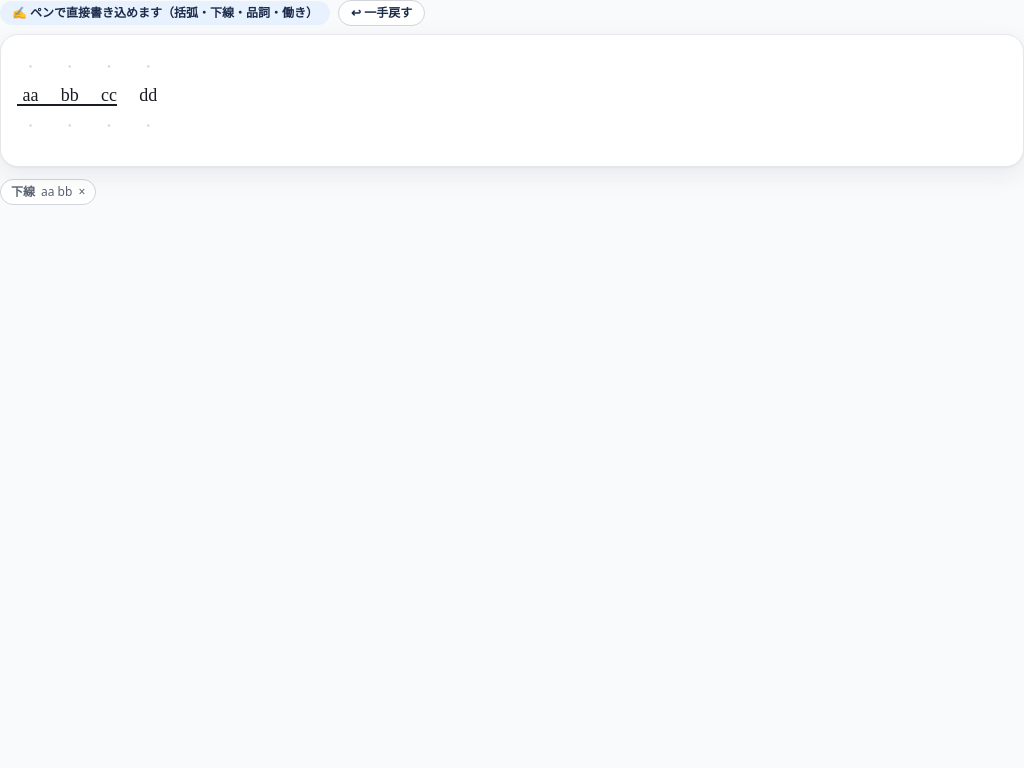
Test case: PenSyntaxAnnotator 下線のタッチ修正（2026-09-02） › 下線をタッチすると修正メニューが開き、波線（熟語）に変更できる
Press the mouse on the drawing at (512, 100), box top-left (1, 35), bottom-right (1023, 166)
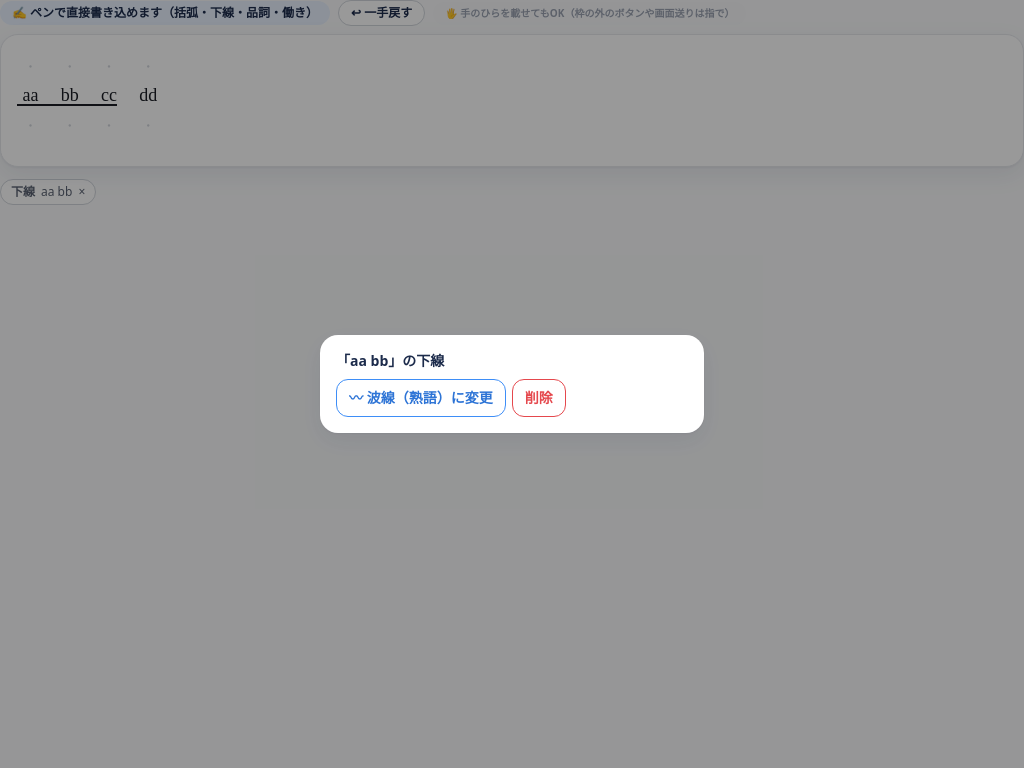
Now the text "「aa bb」の下線" is shown, box top-left (336, 351), bottom-right (444, 370)
Click the button "〰 波線（熟語）に変更" at (421, 398), box top-left (336, 379), bottom-right (506, 417)
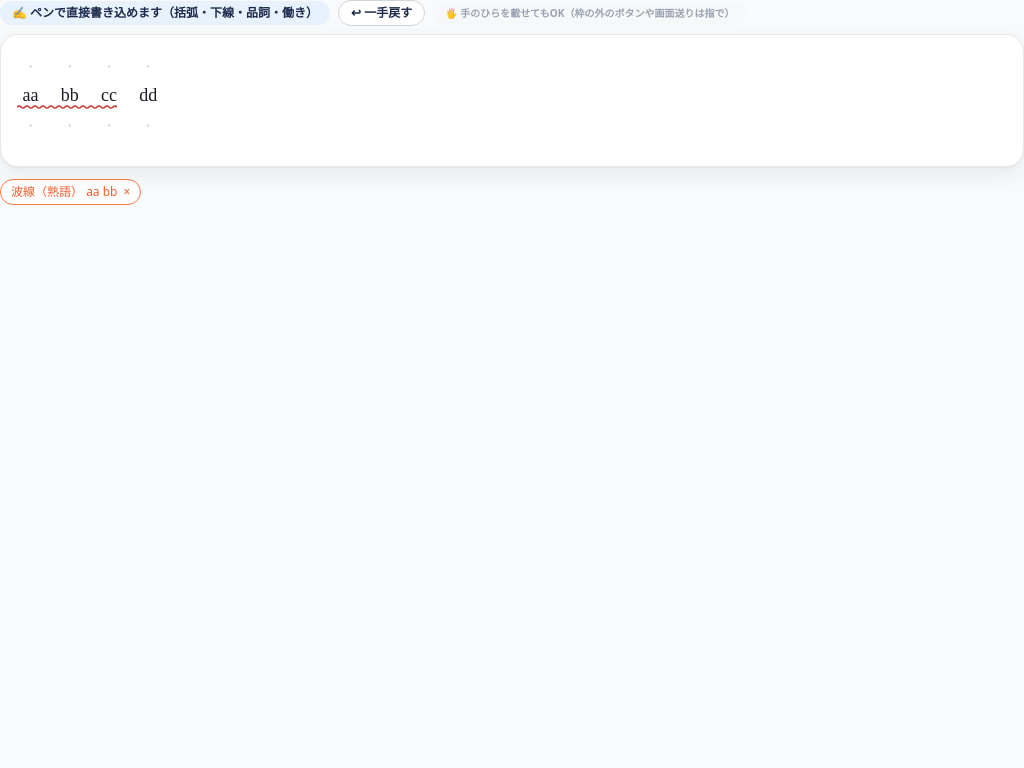
Now the text "波線（熟語） aa bb" is shown, box top-left (0, 179), bottom-right (141, 205)
